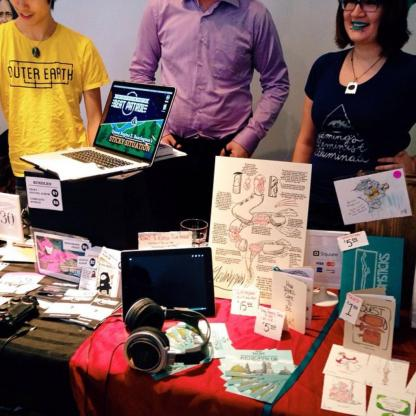board: (18, 80, 178, 185), (107, 250, 219, 340)
